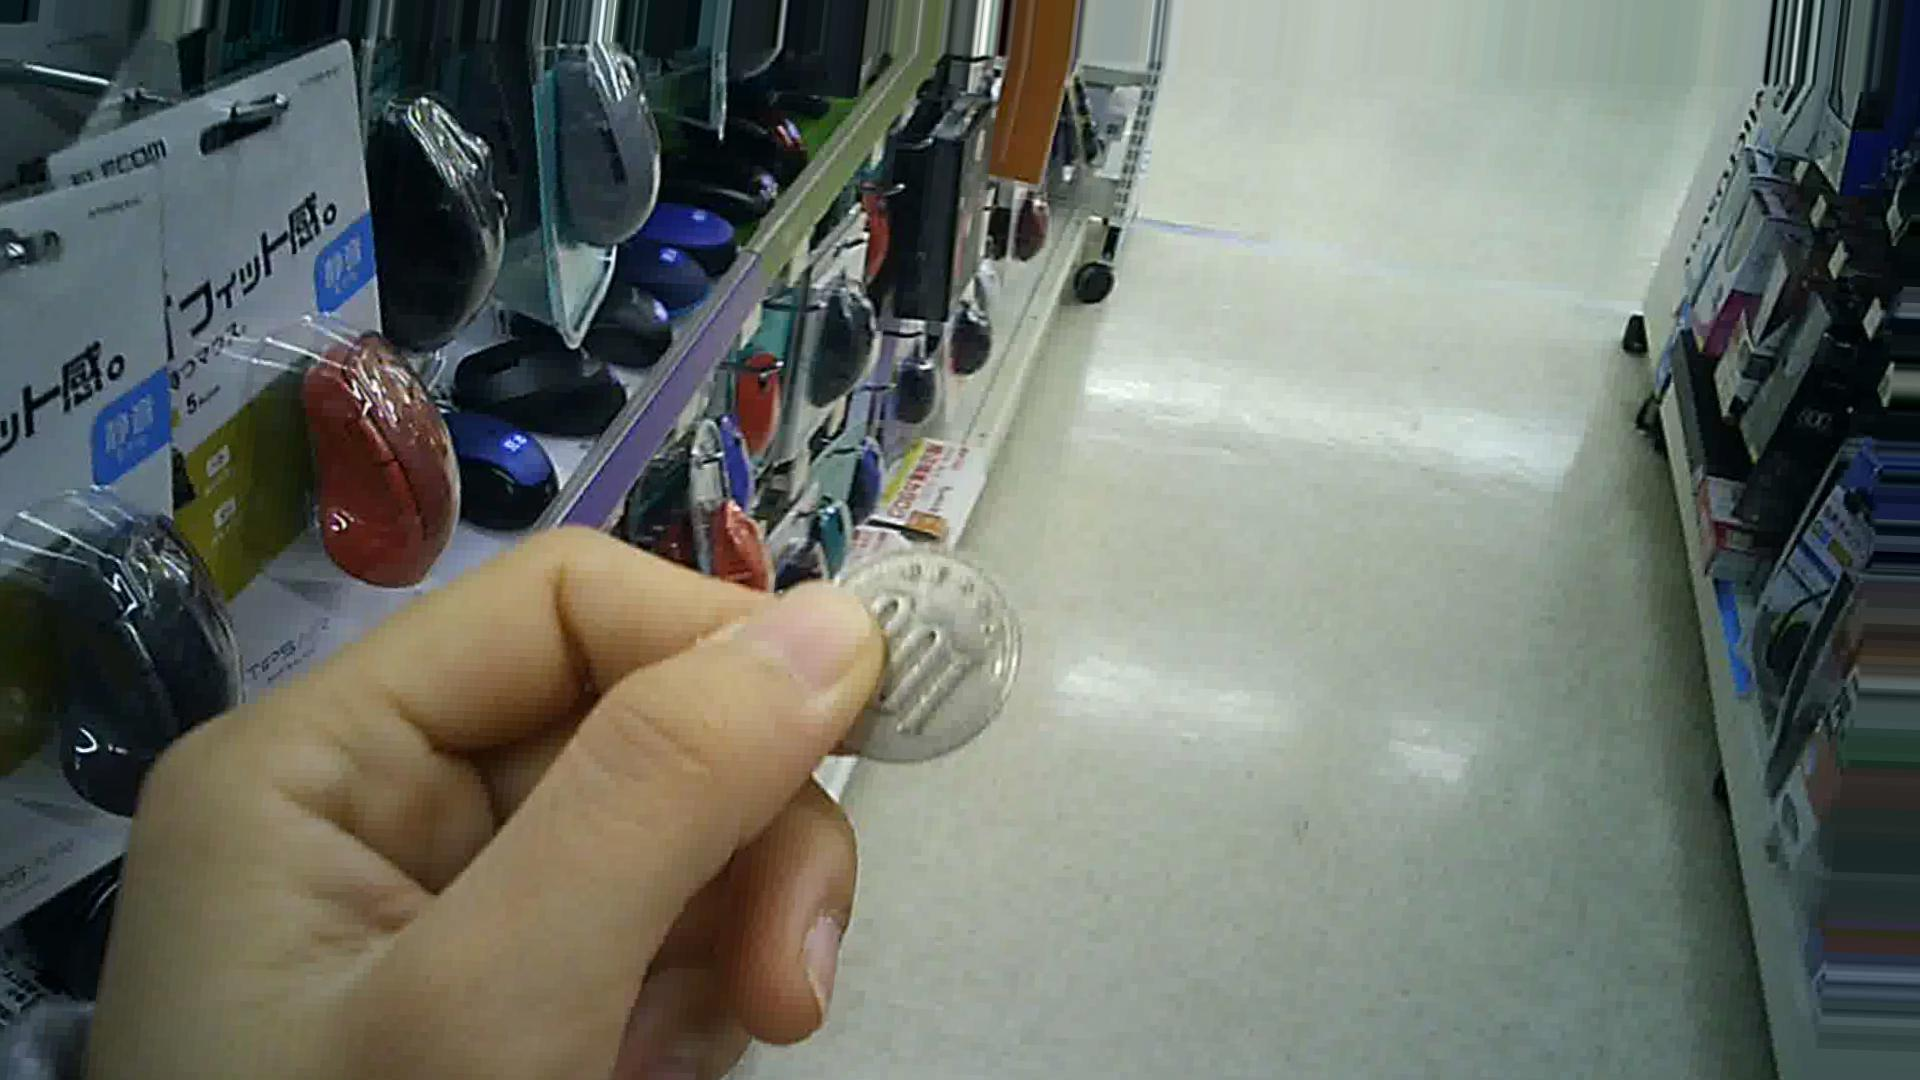100 Yen: (800, 542, 1018, 766)
